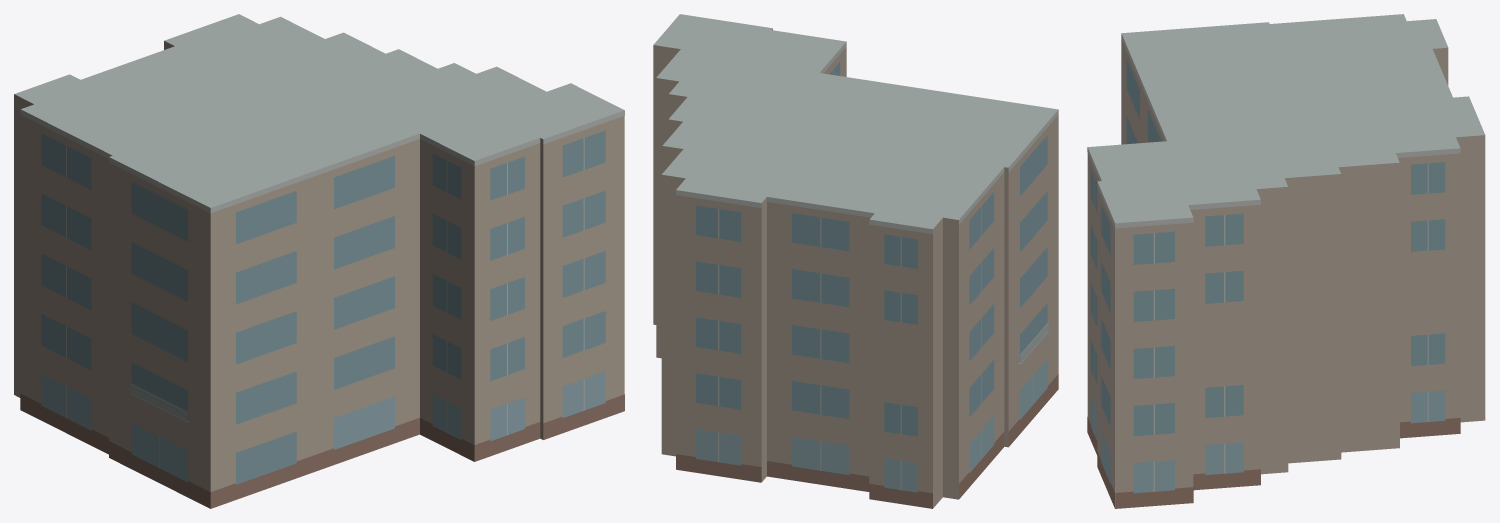
Rendered from survey-upis-32616723.glb.
The picture shows the model from 3 angles, left to right: view 1: azimuth 30°, elevation 25°; view 2: azimuth 150°, elevation 25°; view 3: azimuth 270°, elevation 25°; orthographic projection. The views are drawn at different scales.
Visible parts, largest first — view 1: survey-upis-32616723.tmp; view 2: survey-upis-32616723.tmp; view 3: survey-upis-32616723.tmp.
Boxes of the visible parts, left/top/right/bottom form: survey-upis-32616723.tmp: left=14, top=14, right=624, bottom=508; survey-upis-32616723.tmp: left=653, top=14, right=1058, bottom=508; survey-upis-32616723.tmp: left=1087, top=14, right=1485, bottom=508.
Bounding box in the file's own units: 21.56 × 13.7 × 17.31.
